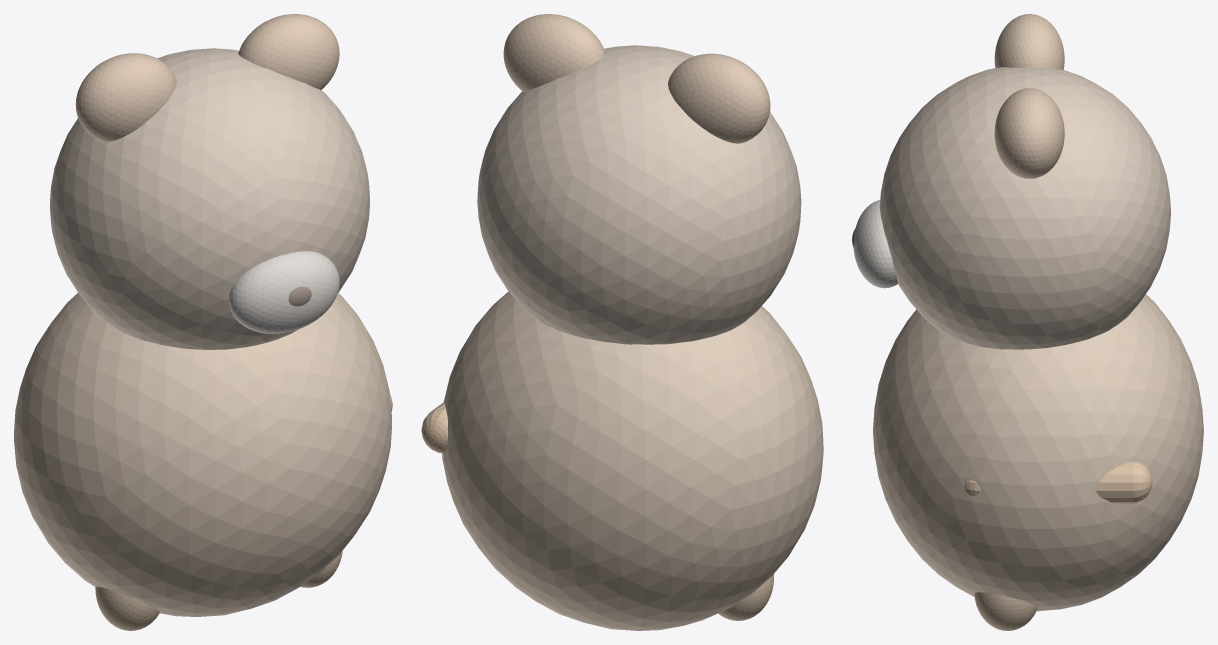
File: cat.glb
The picture shows the model from 3 angles, left to right: view 1: azimuth 30°, elevation 25°; view 2: azimuth 150°, elevation 25°; view 3: azimuth 270°, elevation 25°; orthographic projection. The views are drawn at different scales.
Visible parts, largest first — view 1: world; view 2: world; view 3: world.
Boxes of the visible parts, left/top/right/bottom form: world: left=14, top=14, right=392, bottom=630; world: left=421, top=14, right=823, bottom=630; world: left=852, top=14, right=1203, bottom=630.
Size of the model in its own units: 0.9913 by 1.6 by 0.9505.
